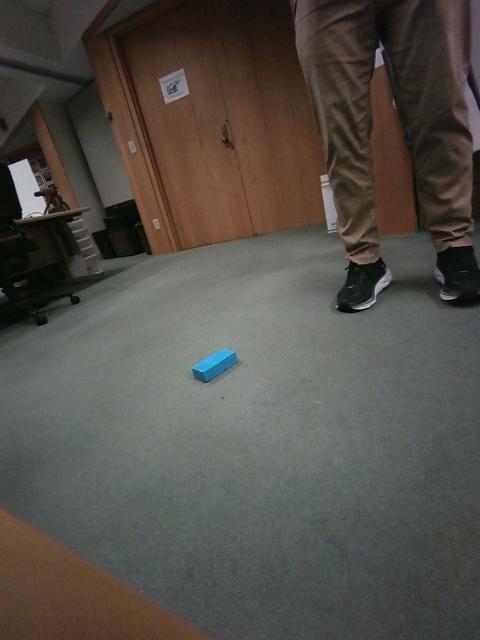block: (354, 361, 425, 459)
